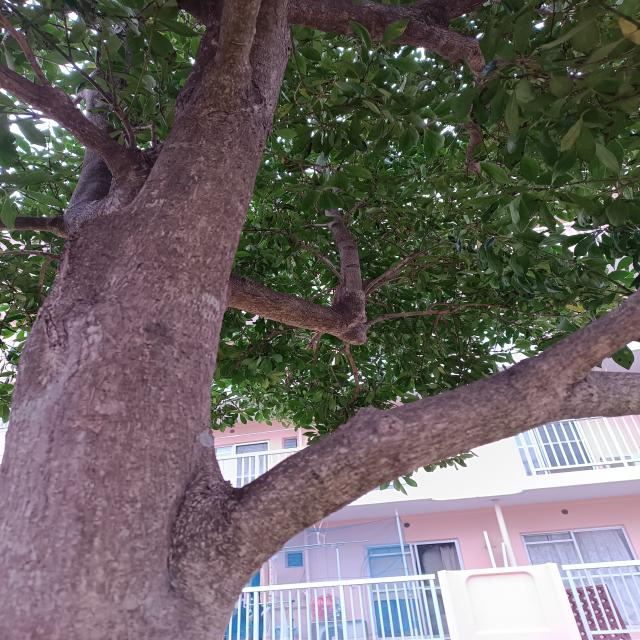Branch: (232, 356, 575, 608), (231, 201, 368, 345), (541, 288, 640, 374), (199, 0, 261, 92), (245, 0, 290, 107), (559, 373, 639, 420)
Twig: (0, 65, 136, 175), (367, 303, 535, 327), (0, 15, 50, 86), (278, 229, 340, 280), (364, 251, 422, 292), (427, 302, 459, 310)
